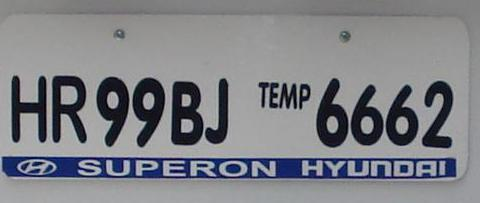2: (420, 79, 452, 149)
6: (314, 76, 348, 148), (384, 82, 418, 147), (350, 83, 383, 146)
9: (95, 74, 129, 147), (131, 76, 165, 148)
A: (414, 158, 437, 176)
B: (169, 78, 203, 146)
D: (391, 159, 414, 176)
E: (160, 157, 186, 176), (268, 80, 278, 108)
H: (8, 72, 47, 143), (300, 156, 324, 176)
I: (437, 159, 447, 176)
J: (204, 77, 228, 144)
M: (278, 80, 297, 109)
N: (249, 159, 277, 176), (368, 158, 392, 176)
O: (218, 157, 247, 176)
P: (133, 157, 158, 176), (296, 82, 311, 111)
R: (50, 73, 88, 143), (188, 158, 217, 177)
S: (75, 156, 101, 175)
T: (256, 80, 268, 108)
U: (104, 157, 130, 176), (346, 158, 369, 176)
Y: (323, 158, 346, 176)
